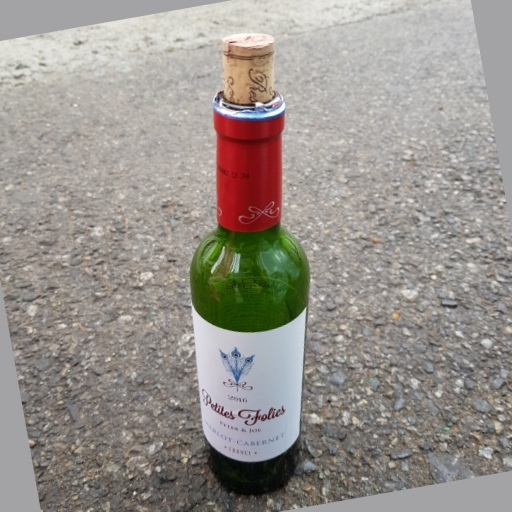Glass_2: (190, 29, 313, 496)
